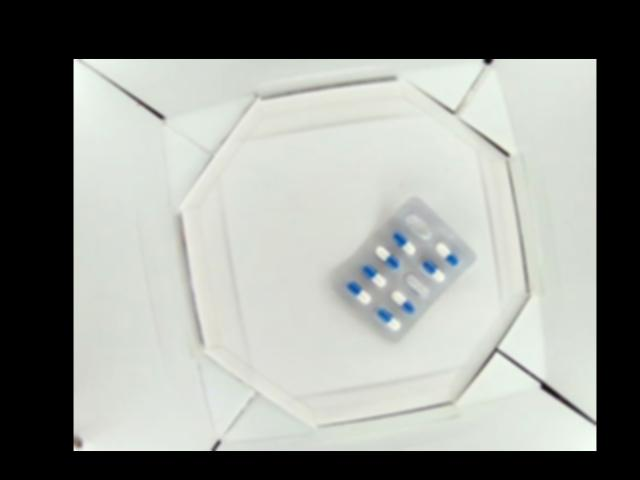Medicine: (330, 192, 478, 339)
